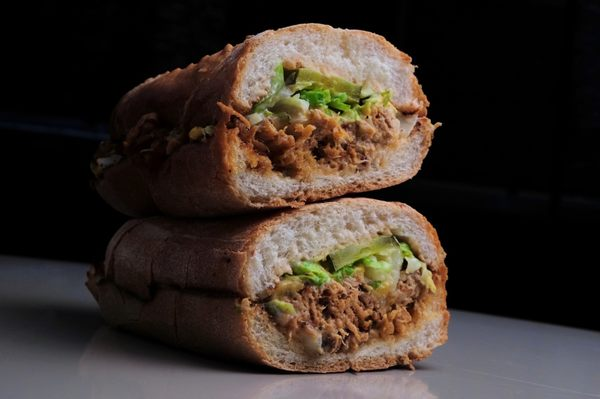soup: (81, 23, 448, 375), (96, 23, 440, 218), (83, 198, 453, 375)
